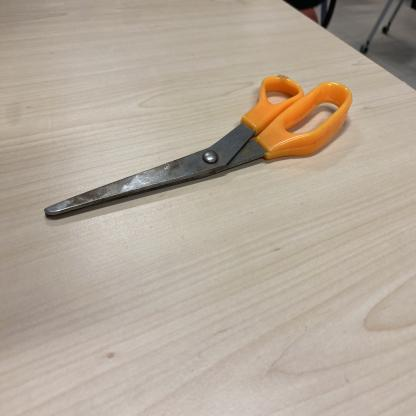scissors: (44, 75, 352, 220)
